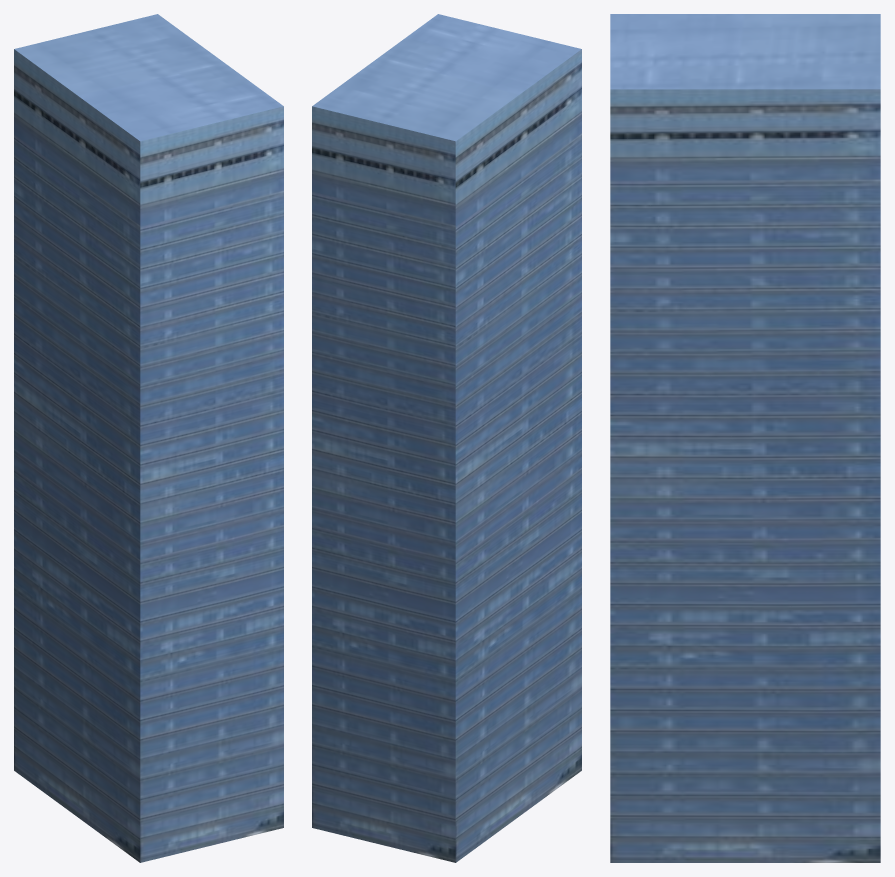
The model's file is lic_tower_glass_c.glb.
3 views of the same model, side by side, from view 1: azimuth 30°, elevation 25°; view 2: azimuth 150°, elevation 25°; view 3: azimuth 270°, elevation 25° (orthographic). The views are drawn at different scales.
Parts seen in each view (by area): view 1: building; view 2: building; view 3: building.
Boxes of the visible parts, left/top/right/bottom form: building: left=14, top=14, right=283, bottom=862; building: left=312, top=14, right=581, bottom=862; building: left=610, top=14, right=880, bottom=862.
Size of the model in its own units: 24.6 by 118 by 37.37.
Materials: 1 (1 with a texture image).
